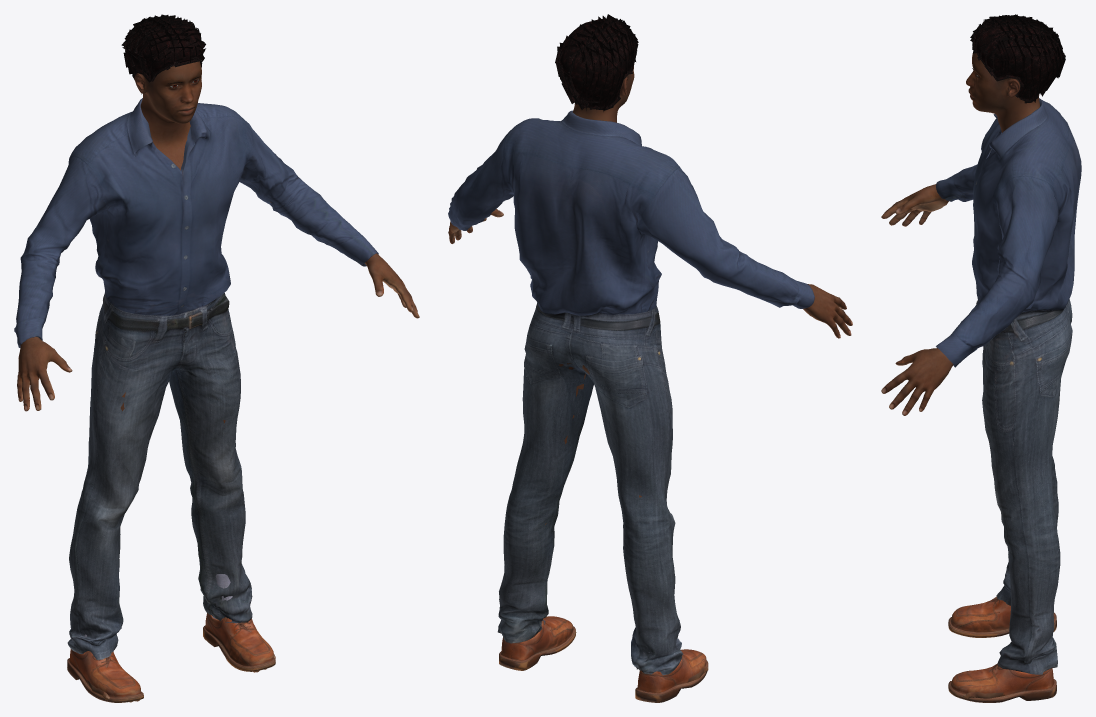
File: npc_core_001_source.obj
3 views of the same model, side by side, from view 1: azimuth 30°, elevation 25°; view 2: azimuth 150°, elevation 25°; view 3: azimuth 270°, elevation 25° (orthographic).
Visible parts, largest first — view 1: male_casualsuit01.obj, base.obj, shoes01.obj, afro01.obj; view 2: male_casualsuit01.obj, afro01.obj, shoes01.obj, base.obj; view 3: male_casualsuit01.obj, base.obj, afro01.obj, shoes01.obj.
Part boxes in pixels (x1,y1,x2,y2): male_casualsuit01.obj: [14, 98, 378, 660]; base.obj: [17, 61, 419, 702]; shoes01.obj: [67, 574, 275, 702]; afro01.obj: [121, 14, 205, 94]; male_casualsuit01.obj: [448, 110, 814, 675]; afro01.obj: [555, 14, 638, 111]; shoes01.obj: [499, 616, 708, 702]; base.obj: [448, 64, 852, 682]; male_casualsuit01.obj: [936, 98, 1081, 674]; base.obj: [881, 53, 1039, 698]; afro01.obj: [970, 14, 1065, 103]; shoes01.obj: [948, 596, 1056, 702].
Bounding box in the file's own units: 1.21 × 1.91 × 0.5381.
8 materials, 8 textured.
